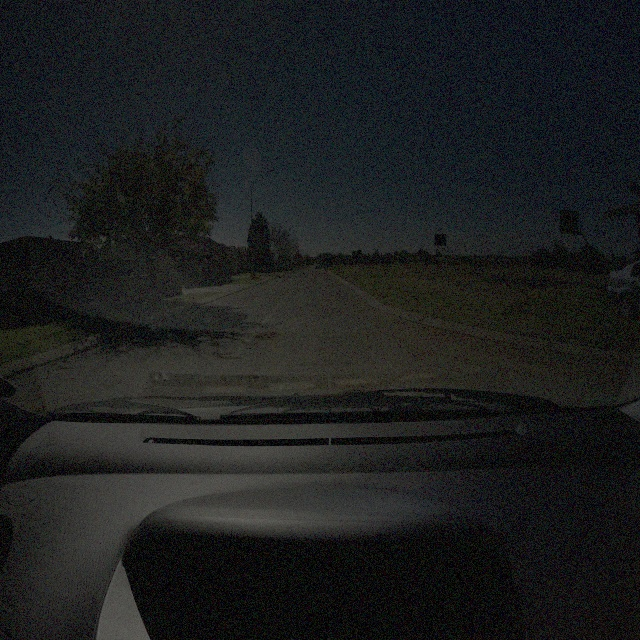pothole: (256, 330, 280, 342)
